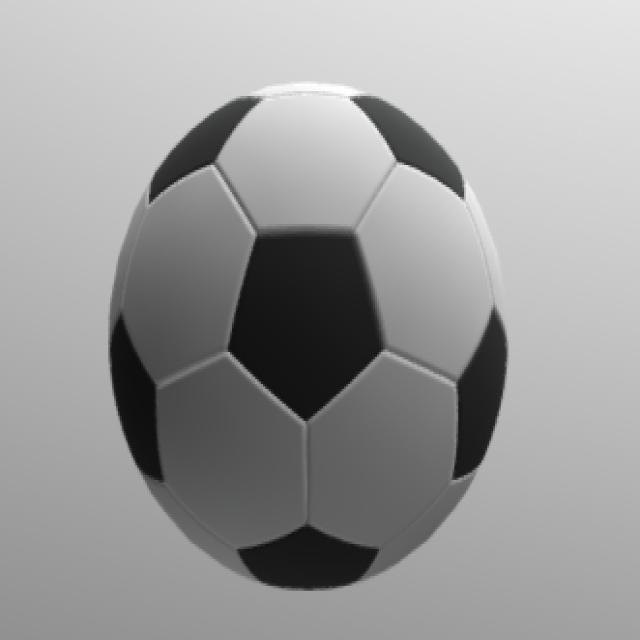ball: (108, 78, 510, 589)
